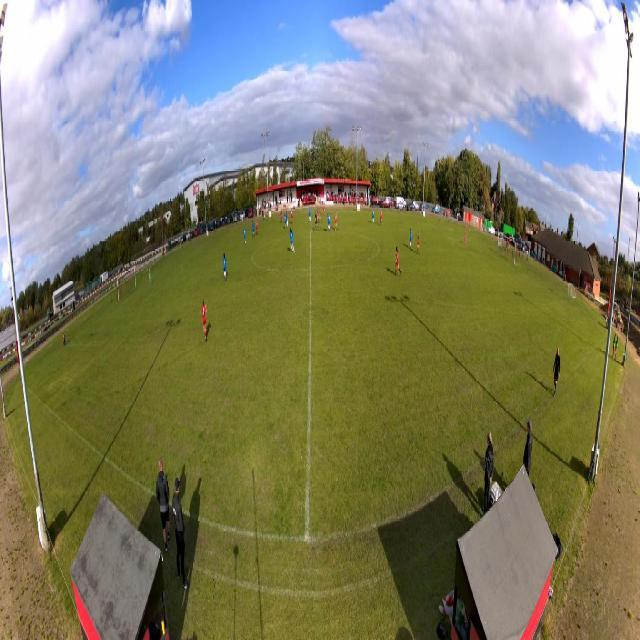player: (201, 299, 207, 341), (396, 247, 402, 276), (289, 228, 295, 254), (222, 253, 227, 281), (416, 231, 420, 255), (315, 212, 319, 232), (317, 209, 322, 225), (334, 211, 338, 230), (327, 212, 331, 231), (243, 227, 247, 245), (251, 220, 255, 238), (255, 220, 259, 237), (149, 267, 152, 286), (290, 209, 294, 223), (284, 214, 288, 228), (410, 227, 412, 251), (280, 210, 284, 222), (309, 207, 312, 223), (372, 208, 375, 223), (286, 212, 289, 226), (323, 203, 326, 215), (380, 208, 382, 225), (465, 228, 467, 245)
